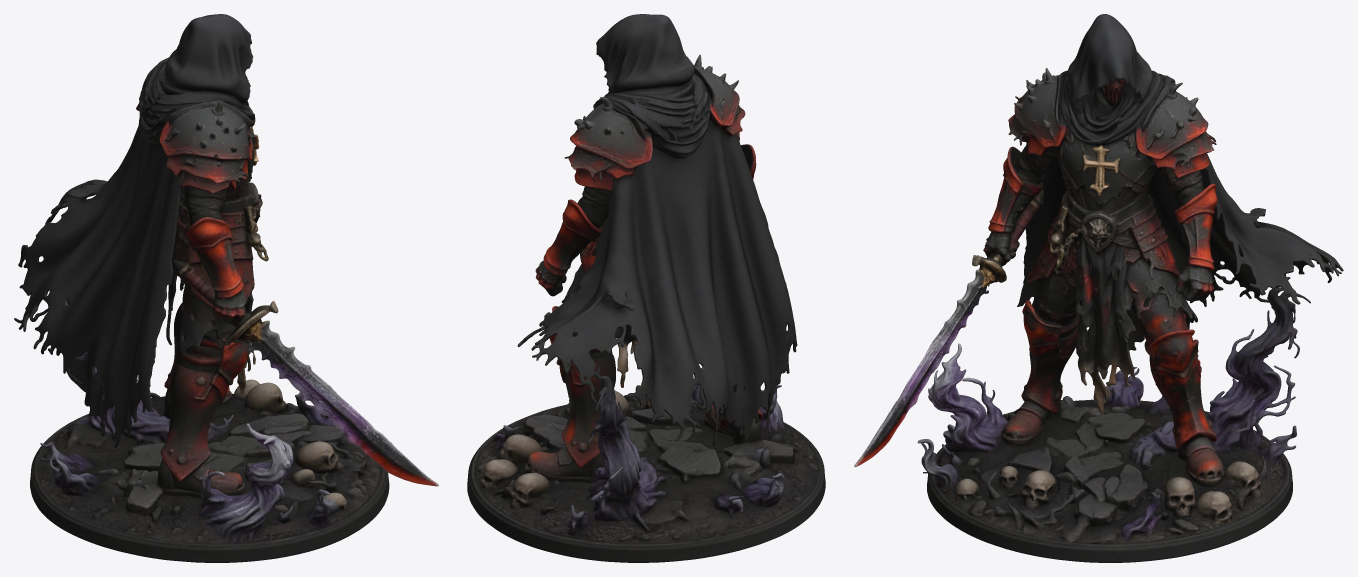
File: inspiration-435.glb
3 views of the same model, side by side, from view 1: azimuth 30°, elevation 25°; view 2: azimuth 150°, elevation 25°; view 3: azimuth 270°, elevation 25° (orthographic).
Visible parts, largest first — view 1: tripo_node_85c93cbe-3d25-46ca-aaf8-5956e6dab002; view 2: tripo_node_85c93cbe-3d25-46ca-aaf8-5956e6dab002; view 3: tripo_node_85c93cbe-3d25-46ca-aaf8-5956e6dab002.
Part boxes in pixels (x1,y1,x2,y2): tripo_node_85c93cbe-3d25-46ca-aaf8-5956e6dab002: (14,14,438,562); tripo_node_85c93cbe-3d25-46ca-aaf8-5956e6dab002: (467,14,825,562); tripo_node_85c93cbe-3d25-46ca-aaf8-5956e6dab002: (854,14,1343,562).
Bounding box in the file's own units: 0.6893 × 1 × 0.9486.
1 material, 1 textured.
